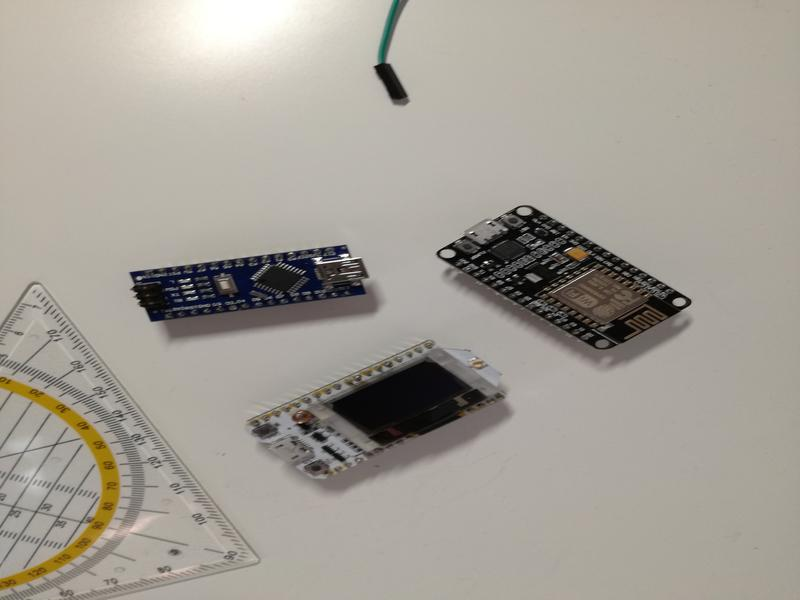Arduino_Nano: (123, 241, 375, 326)
ESP8266: (433, 202, 698, 352)
Heltec_ESP32_Lora: (243, 340, 508, 480)
